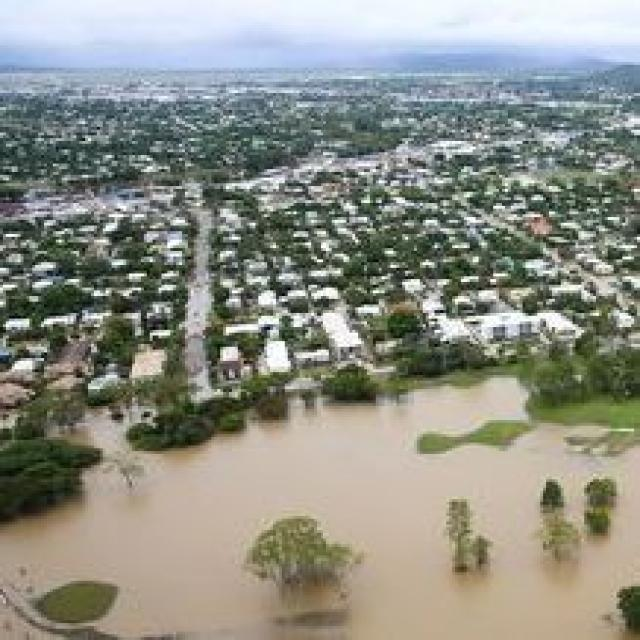flooded_areas: (0, 203, 614, 637)
